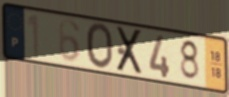1: (27, 14, 40, 59)
4: (147, 32, 172, 81)
6: (57, 18, 82, 65)
8: (179, 38, 201, 82)
O: (84, 22, 115, 72)
X: (115, 25, 145, 77)
